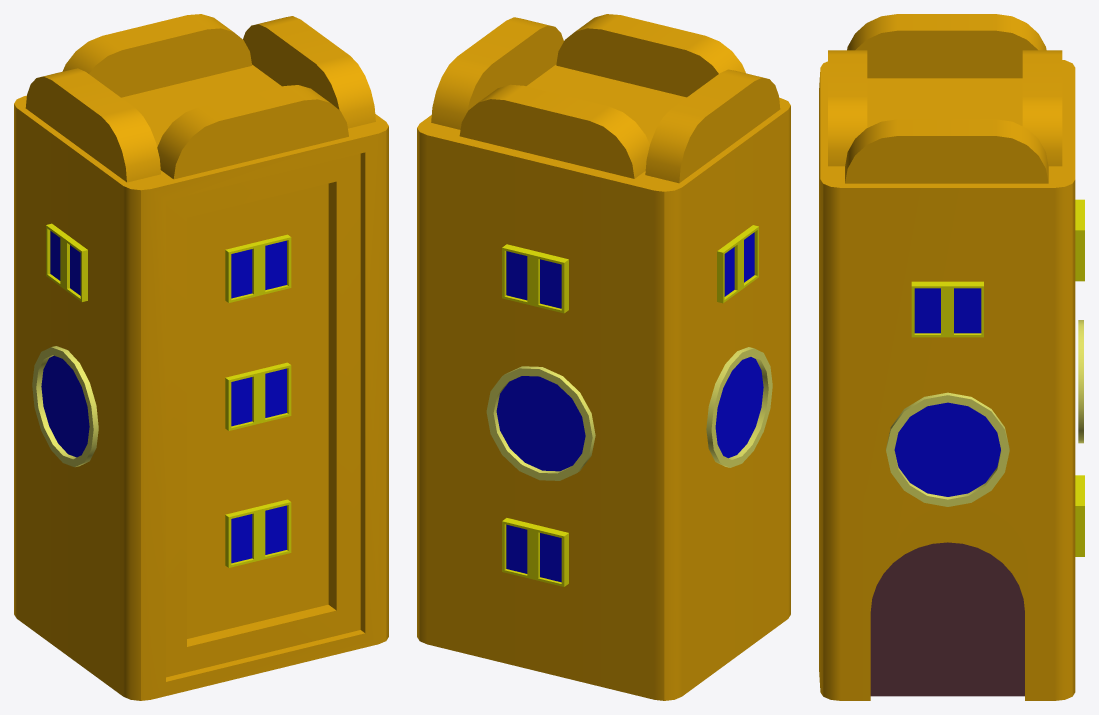
3 views of the same model, side by side, from view 1: azimuth 30°, elevation 25°; view 2: azimuth 150°, elevation 25°; view 3: azimuth 270°, elevation 25° (orthographic).
Parts seen in each view (by area): view 1: polySurface128, pCube81, pCube82, pCube83, pCube84, pTorus9, pCube110, pCube111, pCube109, pCube134; view 2: polySurface128, pCube82, pCube81, pTorus8, pCube83, pCube84, pTorus9, pCube113, pCube114, pCube134; view 3: polySurface128, pCube84, pTorus7, pCube83, pCube112, pCube81, pCube82, pCube113, pCube114, pTorus8.
Boxes of the visible parts, left/top/right/bottom form: polySurface128: left=14, top=64, right=388, bottom=700; pCube81: left=157, top=85, right=348, bottom=179; pCube82: left=62, top=14, right=251, bottom=97; pCube83: left=25, top=68, right=160, bottom=182; pCube84: left=243, top=16, right=375, bottom=128; pTorus9: left=32, top=346, right=98, bottom=467; pCube110: left=225, top=362, right=291, bottom=430; pCube111: left=225, top=499, right=291, bottom=567; pCube109: left=225, top=234, right=291, bottom=302; pCube134: left=46, top=223, right=87, bottom=301; polySurface128: left=417, top=64, right=790, bottom=700; pCube82: left=459, top=84, right=649, bottom=178; pCube81: left=556, top=14, right=745, bottom=97; pTorus8: left=486, top=366, right=595, bottom=480; pCube83: left=645, top=69, right=780, bottom=183; pCube84: left=431, top=17, right=563, bottom=129; pTorus9: left=706, top=347, right=772, bottom=467; pCube113: left=502, top=244, right=568, bottom=313; pCube114: left=502, top=518, right=568, bottom=586; pCube134: left=717, top=225, right=758, bottom=303; polySurface128: left=819, top=60, right=1075, bottom=700; pCube84: left=845, top=119, right=1048, bottom=183; pTorus7: left=886, top=392, right=1009, bottom=506; pCube83: left=847, top=14, right=1046, bottom=78; pCube112: left=911, top=281, right=983, bottom=337; pCube81: left=828, top=50, right=867, bottom=166; pCube82: left=1022, top=50, right=1062, bottom=166; pCube113: left=1075, top=199, right=1084, bottom=281; pCube114: left=1075, top=475, right=1084, bottom=556; pTorus8: left=1078, top=320, right=1083, bottom=443.
Bounding box in the file's own units: 3373 × 6285 × 2700.
